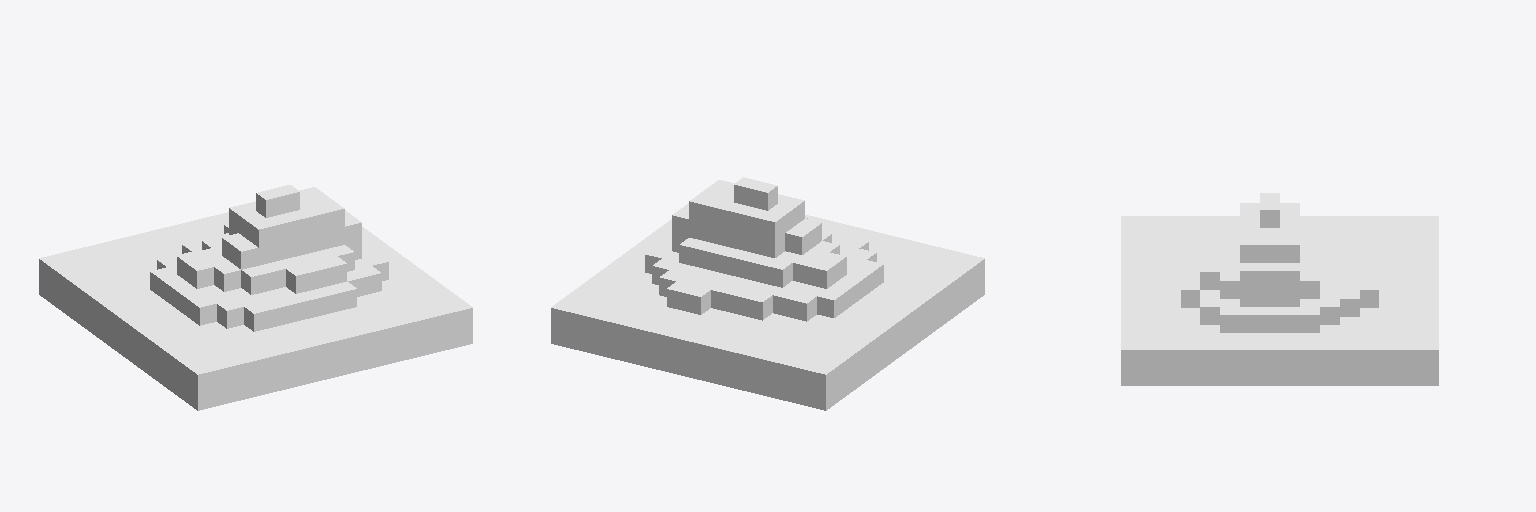
Rendered from iceberg2.obj.
3 renders of one model, left to right at view 1: azimuth 30°, elevation 25°; view 2: azimuth 150°, elevation 25°; view 3: azimuth 270°, elevation 25°, orthographic.
Parts seen in each view (by area): view 1: object 1; view 2: object 1; view 3: object 1.
Part boxes in pixels (bbox=[...]): object 1: bbox=[39, 185, 472, 410]; object 1: bbox=[551, 177, 984, 410]; object 1: bbox=[1121, 193, 1438, 385].
Size of the model in its own units: 1.6 by 0.7 by 1.6.